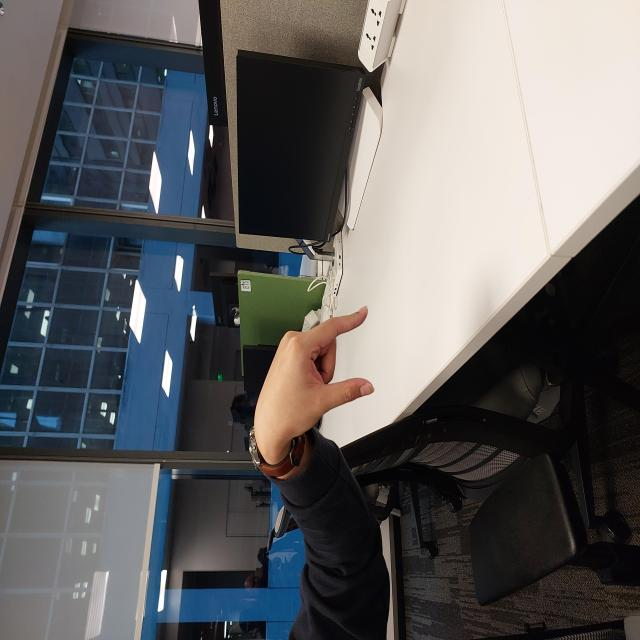Q: (211, 262, 332, 376)
